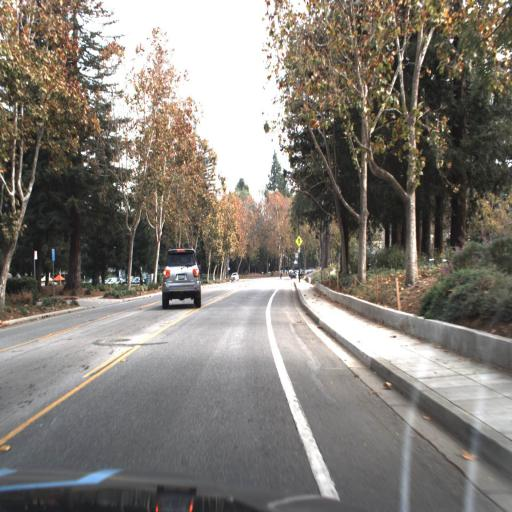car: (162, 246, 202, 310)
